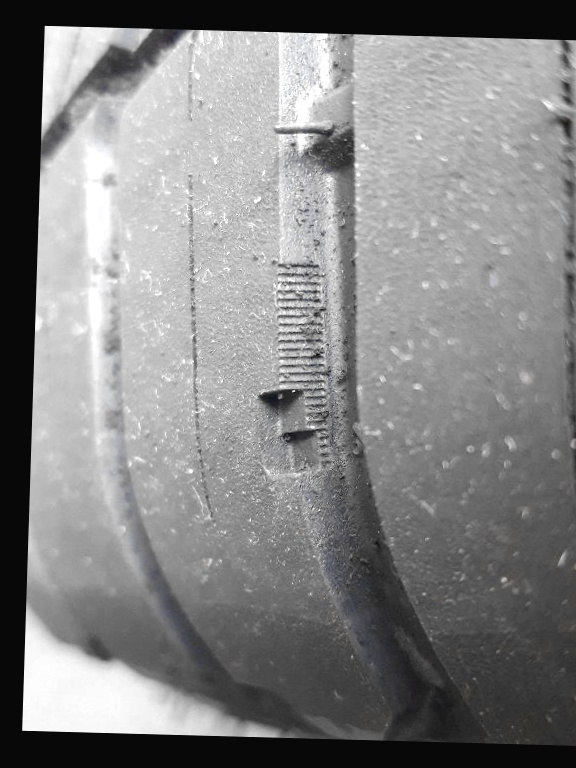temoin:50: (244, 345, 344, 484)
